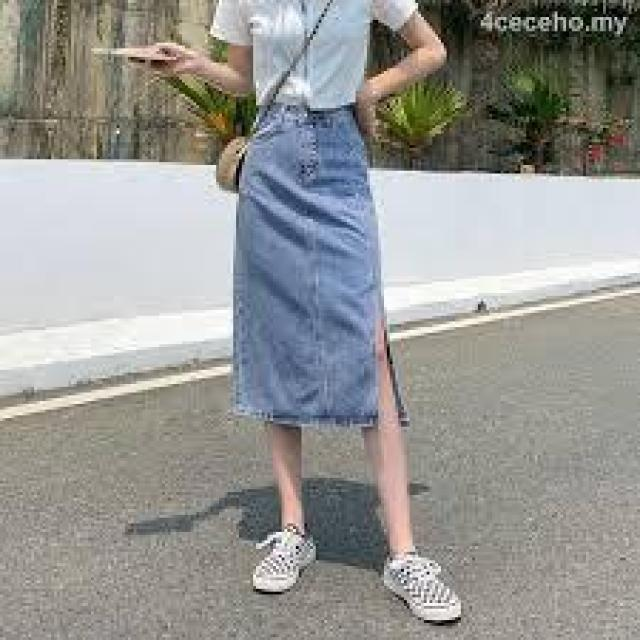Tshirt: (189, 0, 431, 114)
skirt: (213, 104, 418, 442)
